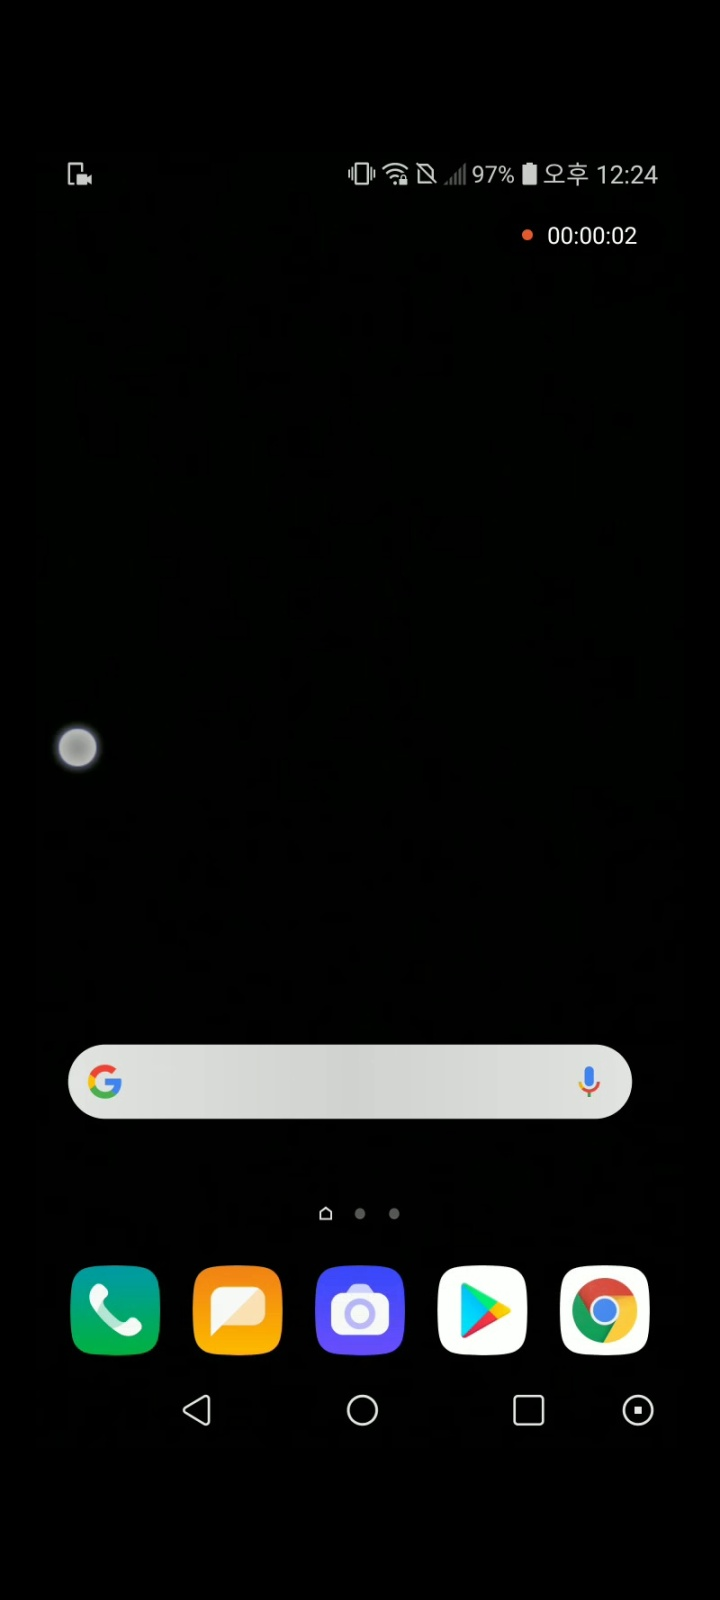Cursor: (56, 724, 101, 770)
